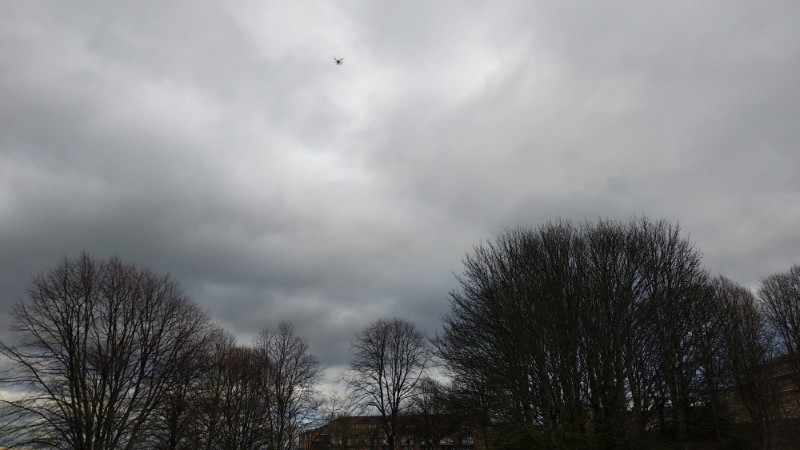drone: (334, 57, 345, 67)
